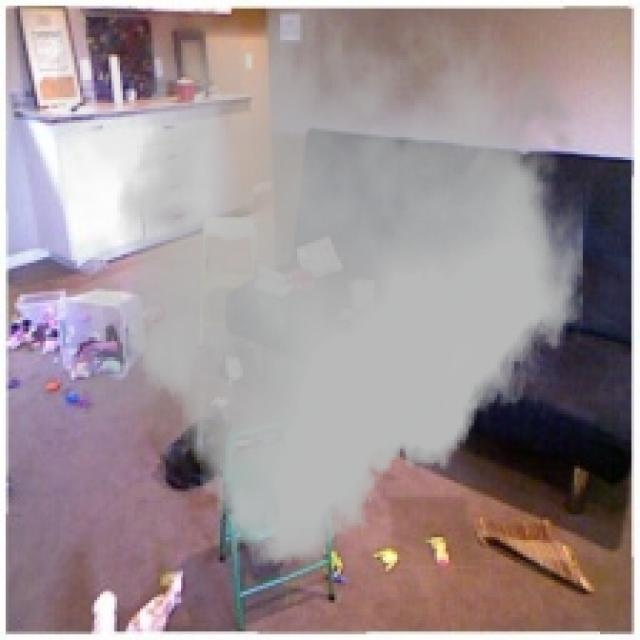Smoke: (57, 8, 592, 566)
